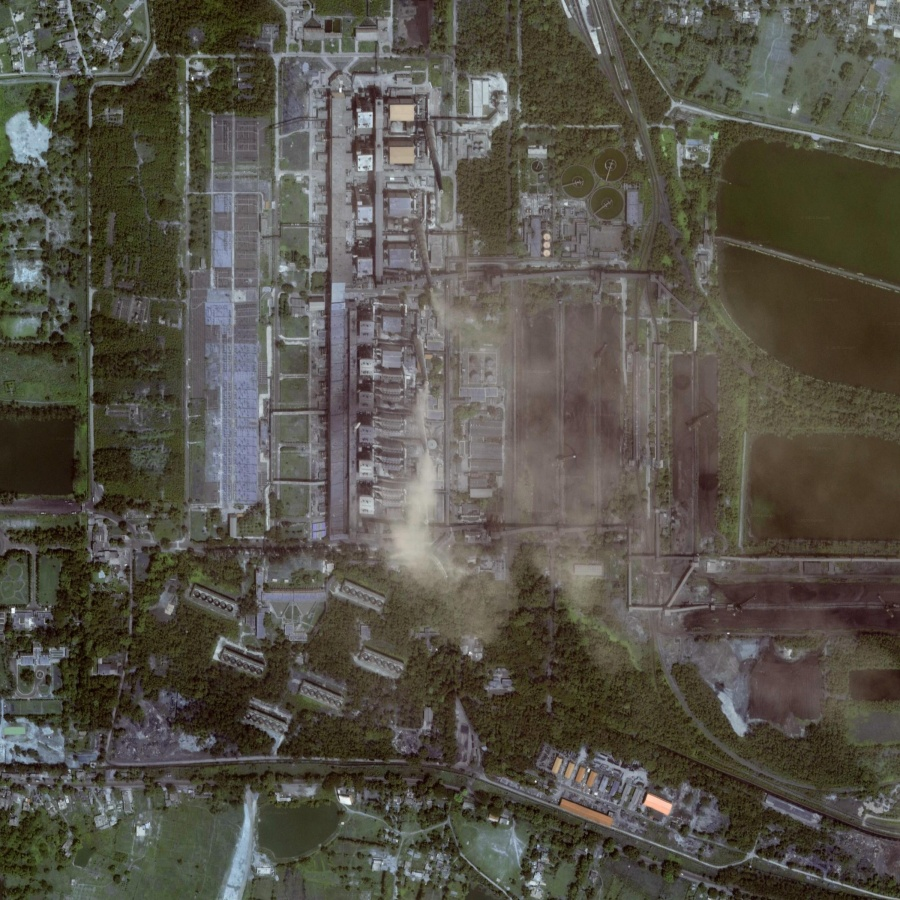PowerPlant: (400, 273, 730, 594)
